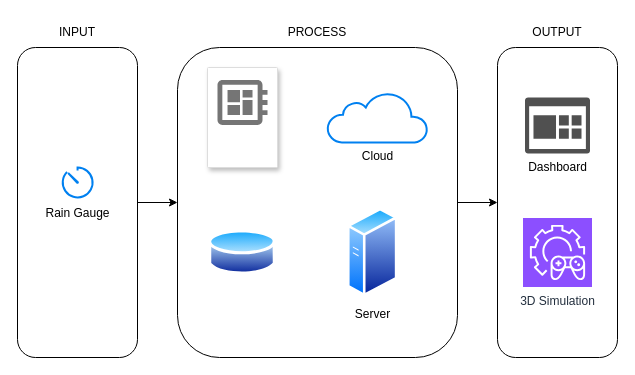
Some shapes in this 635 by 375 pixel diagram are drawn without their labels. The shapes that lost their labels are listed below. From the top down, each one's centre as x and y in pixels, then its label:
(243,118): Micro Controller
(242,252): Database
